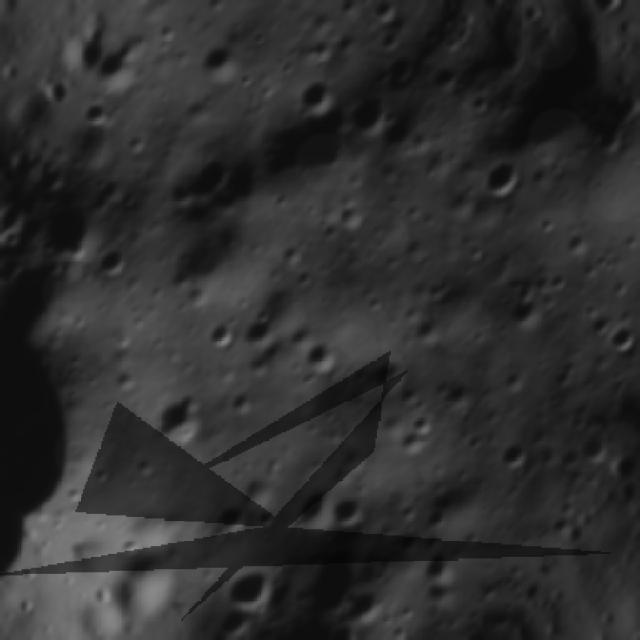crater: (473, 69, 596, 197), (155, 136, 242, 232), (32, 191, 110, 271), (141, 381, 219, 459), (213, 553, 289, 629), (284, 478, 345, 544), (342, 85, 401, 146), (190, 36, 248, 95), (292, 69, 345, 125), (476, 153, 529, 207), (298, 332, 348, 382), (324, 486, 374, 536), (501, 286, 550, 336), (92, 236, 140, 287), (237, 308, 285, 357), (415, 547, 463, 596), (202, 495, 252, 542), (491, 430, 538, 479), (404, 310, 450, 356), (367, 351, 411, 397), (571, 425, 615, 470), (215, 600, 260, 640), (202, 316, 244, 358), (601, 316, 640, 360), (425, 60, 466, 100), (556, 226, 596, 266), (382, 49, 420, 91), (395, 424, 434, 462), (415, 502, 453, 541), (333, 201, 370, 239), (496, 364, 532, 402), (463, 84, 499, 121), (226, 384, 262, 419), (276, 237, 310, 274), (406, 125, 440, 161), (83, 95, 117, 130), (405, 408, 440, 442), (323, 617, 368, 640), (534, 212, 560, 240)
